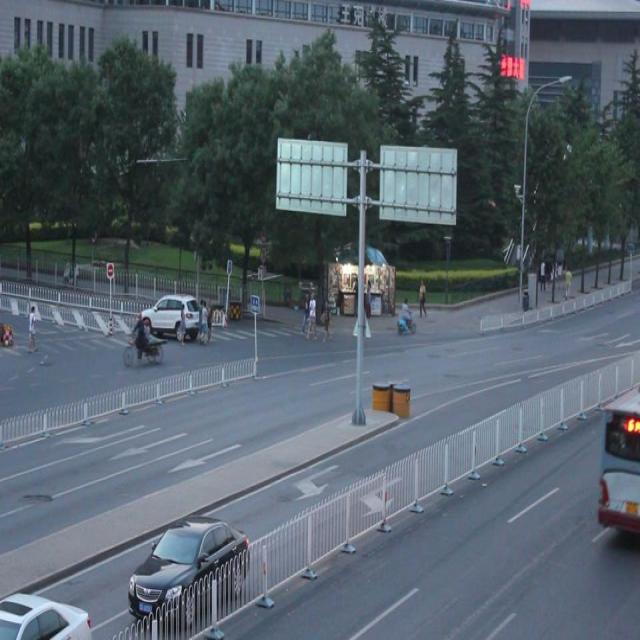car: (127, 516, 250, 628), (1, 590, 91, 640), (140, 294, 200, 338)
van: (595, 387, 640, 537)
